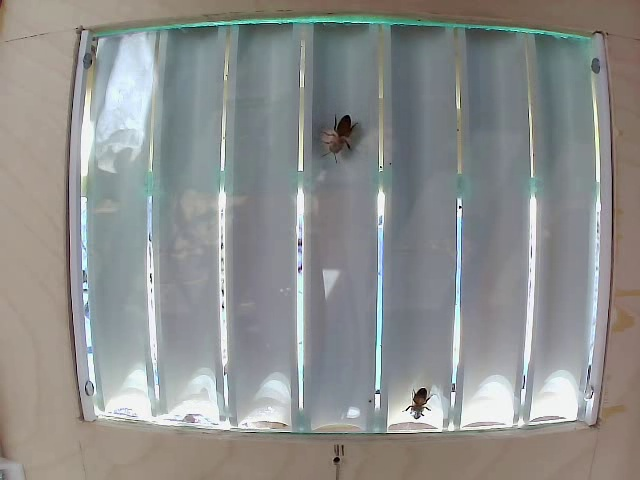bee: (320, 100, 371, 172)
